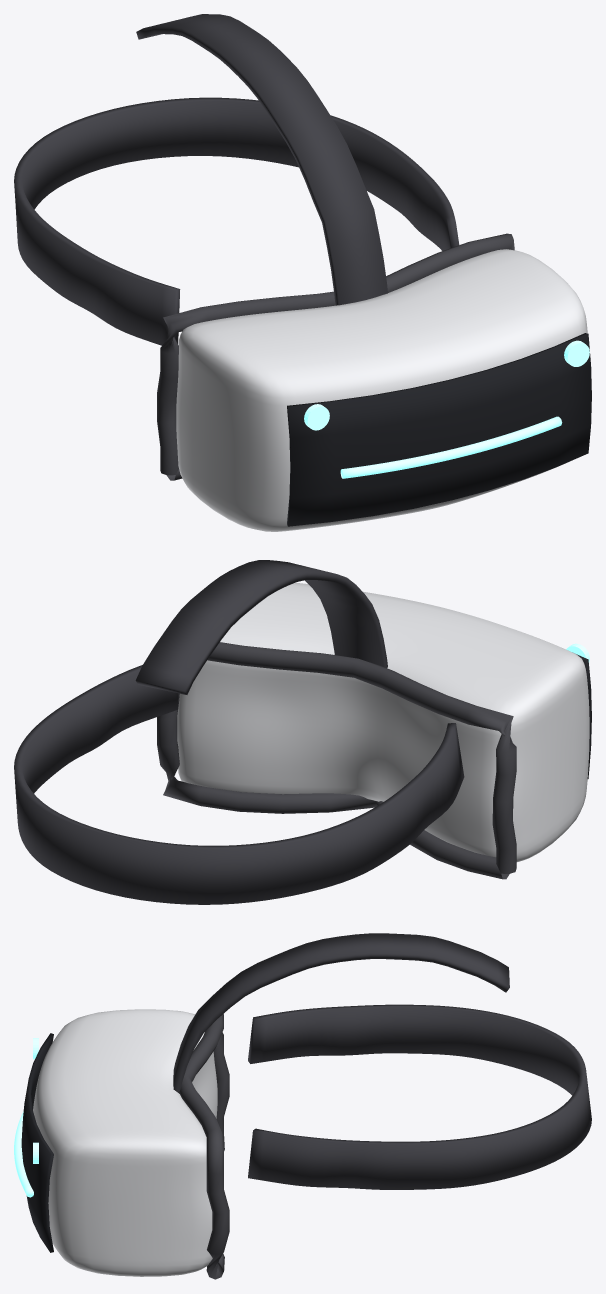
File: acc_glasses_vr_male.glb
The picture shows the model from 3 angles, top to bottom: view 1: azimuth 30°, elevation 25°; view 2: azimuth 150°, elevation 25°; view 3: azimuth 270°, elevation 25°; orthographic projection. The views are drawn at different scales.
Visible parts, largest first — view 1: glasses_vr; view 2: glasses_vr; view 3: glasses_vr.
Part boxes in pixels (left/top/right/bottom): glasses_vr: left=14, top=14, right=591, bottom=531; glasses_vr: left=14, top=560, right=591, bottom=904; glasses_vr: left=14, top=933, right=591, bottom=1279.
Bounding box in the file's own units: 0.1744 × 0.1534 × 0.2986.
